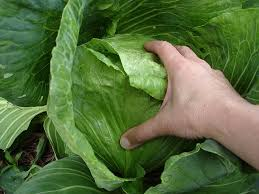cabbage: (70, 35, 196, 179)
